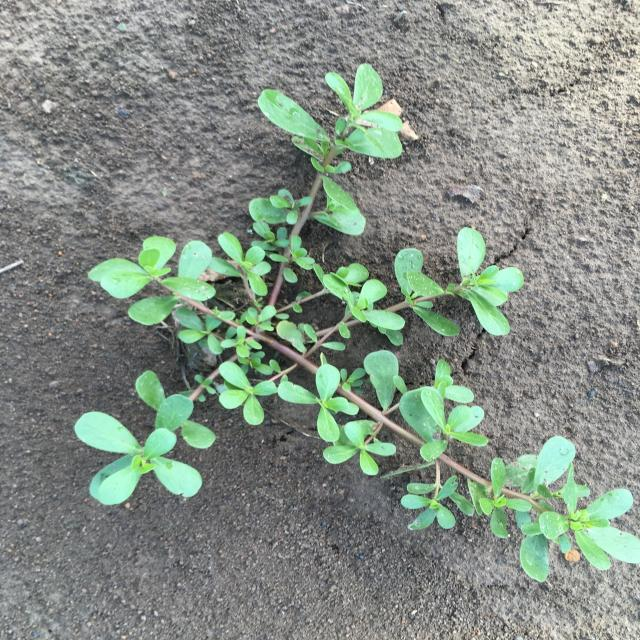Purslane: (75, 64, 640, 582)
